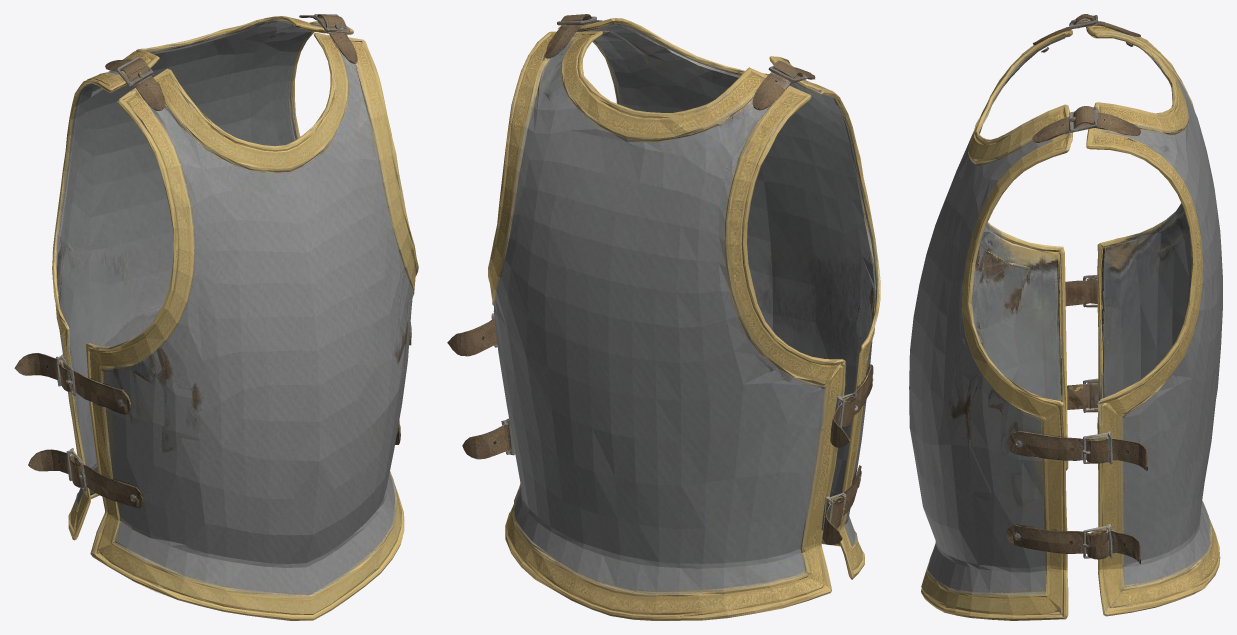
Rendered from ewm_breastplate.glb.
The picture shows the model from 3 angles, left to right: view 1: azimuth 30°, elevation 25°; view 2: azimuth 150°, elevation 25°; view 3: azimuth 270°, elevation 25°; orthographic projection. The views are drawn at different scales.
Visible parts, largest first — view 1: ewm_breastplate; view 2: ewm_breastplate; view 3: ewm_breastplate.
Boxes of the visible parts, x1,y1,x2,y2 form: ewm_breastplate: [14, 14, 418, 620]; ewm_breastplate: [447, 14, 880, 620]; ewm_breastplate: [909, 14, 1222, 620].
Size of the model in its own units: 0.4311 by 0.5752 by 0.3071.
1 material, 1 textured.
